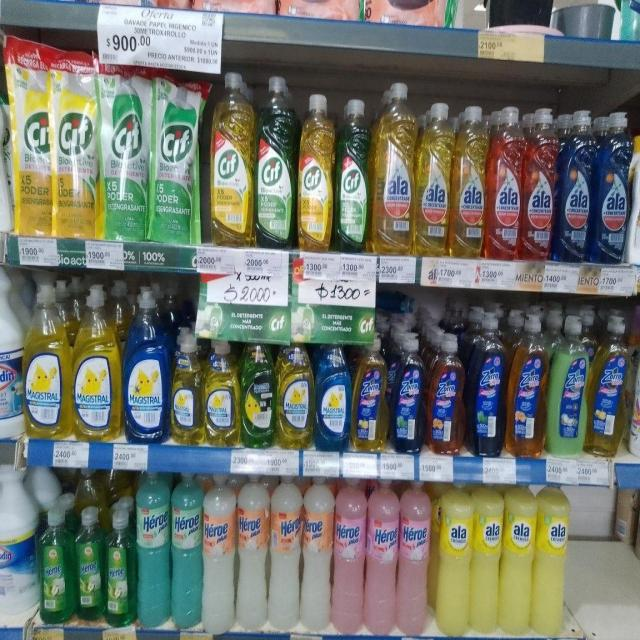ala_conc_amarillo: (372, 80, 414, 256), (416, 100, 450, 256), (452, 103, 486, 258)
ala_conc_azul: (558, 108, 593, 263), (595, 109, 629, 264)
ala_conc_rojo: (487, 105, 522, 262), (522, 105, 556, 262)
ala_crem_amarillo: (534, 484, 569, 637), (436, 480, 470, 637), (502, 484, 533, 637), (472, 484, 501, 636)
cif_conc_bot_amarilla: (209, 70, 253, 246), (297, 91, 334, 252)
cif_conc_botella_verde: (255, 74, 296, 248), (336, 95, 369, 252)
cif_conc_sachet_amarillo: (53, 48, 98, 239), (12, 37, 52, 237), (0, 31, 10, 236)
cif_conc_sachet_verde: (150, 70, 201, 244), (100, 62, 148, 241)
heroe: (136, 471, 170, 628), (202, 472, 235, 632), (398, 478, 431, 635), (237, 472, 268, 630), (171, 472, 202, 630), (366, 476, 397, 634), (334, 476, 364, 634), (302, 475, 332, 632), (270, 474, 300, 629), (40, 506, 73, 624), (105, 507, 134, 625), (75, 506, 104, 622)
magistral_con_amarillo: (73, 283, 121, 442), (24, 280, 70, 440), (276, 342, 314, 450), (170, 326, 202, 446), (204, 338, 239, 447)
magistral_con_azul: (124, 285, 169, 445), (316, 342, 350, 452)
zorro: (548, 313, 588, 457), (589, 310, 628, 457), (508, 310, 546, 459), (468, 310, 506, 457), (428, 330, 465, 455), (391, 331, 426, 454), (352, 334, 388, 452), (631, 310, 640, 457)
